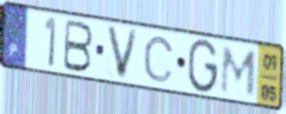1: (43, 16, 57, 70)
B: (61, 17, 95, 75)
C: (142, 35, 175, 84)
G: (186, 38, 220, 96)
M: (218, 44, 260, 98)
V: (105, 23, 141, 82)
